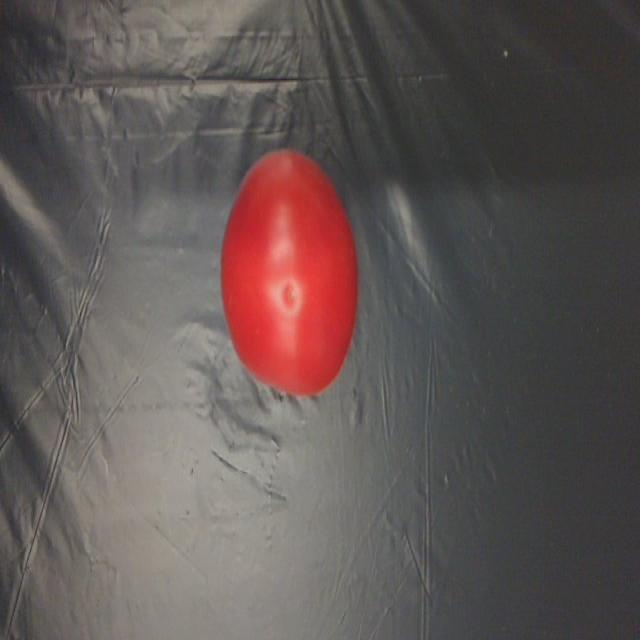kirmizi: (222, 141, 367, 409)
